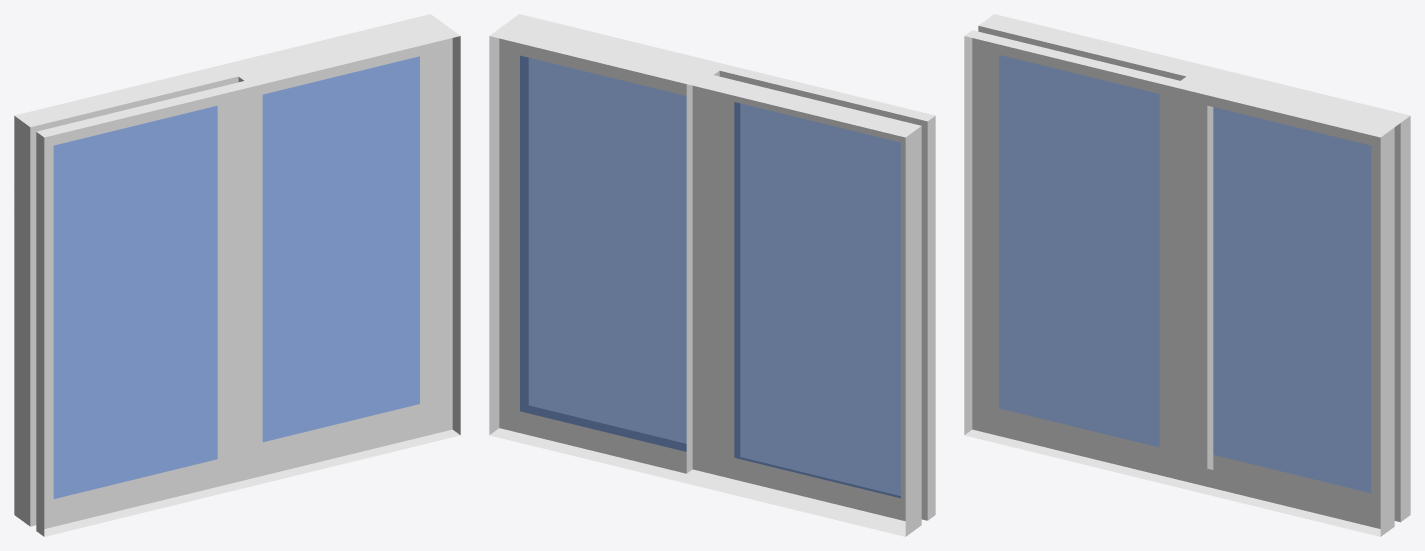
The picture shows the model from 3 angles, left to right: view 1: azimuth 30°, elevation 25°; view 2: azimuth 150°, elevation 25°; view 3: azimuth 330°, elevation 25°; orthographic projection.
Visible parts, largest first — view 1: SketchUp (×3); view 2: SketchUp (×3); view 3: SketchUp (×3).
Boxes of the visible parts, <box> form: SketchUp (×3): <box>14,14,460,536</box>; SketchUp (×3): <box>489,14,935,536</box>; SketchUp (×3): <box>964,14,1410,536</box>.
Bounding box in the file's own units: 47.24 × 5.91 × 43.31.
